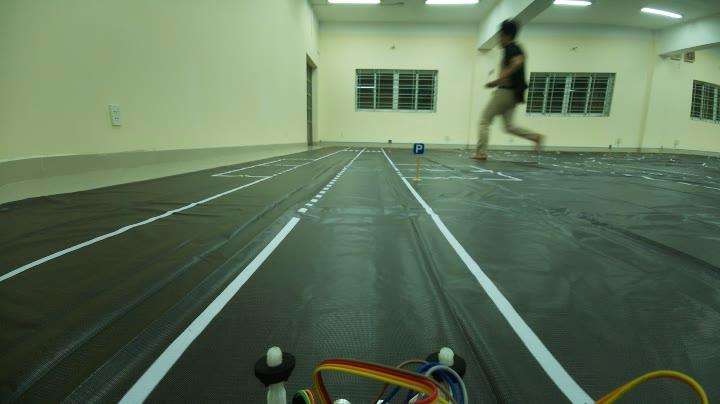parking: (411, 139, 428, 160)
